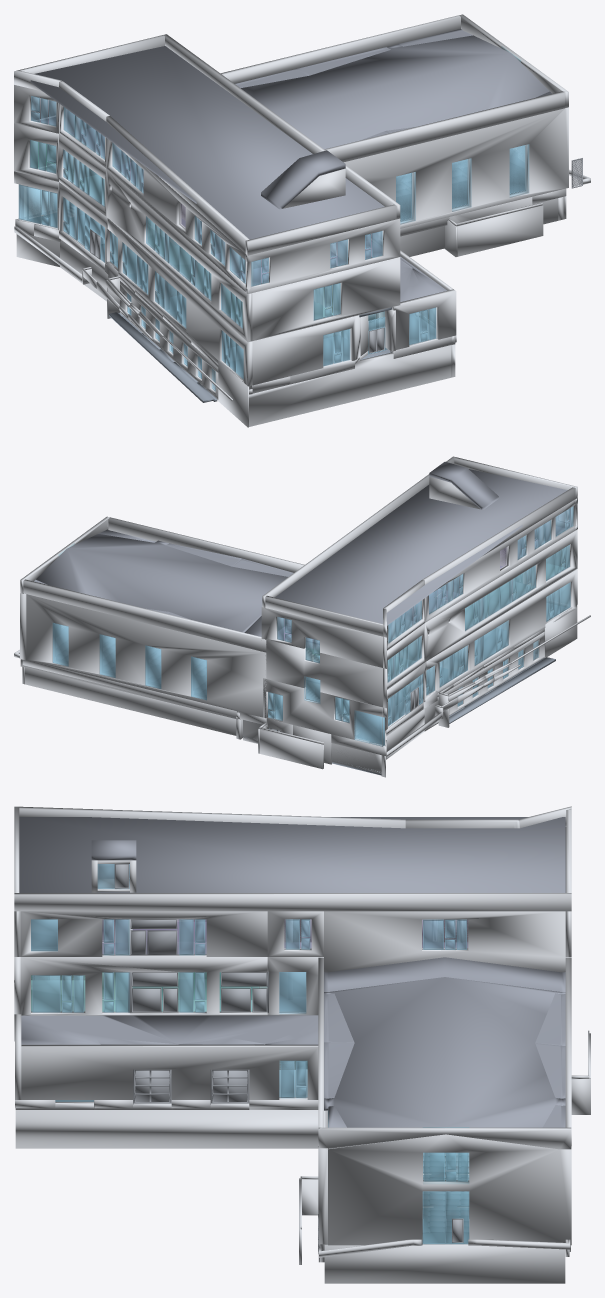
File: campus_twin.glb
The picture shows the model from 3 angles, top to bottom: view 1: azimuth 30°, elevation 25°; view 2: azimuth 150°, elevation 25°; view 3: azimuth 270°, elevation 25°; orthographic projection. The views are drawn at different scales.
Parts seen in each view (by area): view 1: arch_roof_storey_15ZSjFyOz3g9926Y5YSybv, arch_wall_storey_0XZfgApoH76vdPViCcsT6m, arch_wall_storey_1mnZnZ29v9QRze4pjg0g3S, arch_wall_storey_0IEk6ObD54bwMLfrOXff7W, arch_wall_storey_0SLmhMRV95B9NPlMAzXhZv, arch_window_storey_0XZfgApoH76vdPViCcsT6m, arch_window_storey_0IEk6ObD54bwMLfrOXff7W, arch_window_storey_1mnZnZ29v9QRze4pjg0g3S, arch_roof_storey_0IEk6ObD54bwMLfrOXff7W, arch_slab_storey_0XZfgApoH76vdPViCcsT6m, arch_slab_storey_0IEk6ObD54bwMLfrOXff7W, arch_slab_storey_0SLmhMRV95B9NPlMAzXhZv (+5 smaller); view 2: arch_roof_storey_15ZSjFyOz3g9926Y5YSybv, arch_wall_storey_0XZfgApoH76vdPViCcsT6m, arch_wall_storey_1mnZnZ29v9QRze4pjg0g3S, arch_wall_storey_0IEk6ObD54bwMLfrOXff7W, arch_wall_storey_0SLmhMRV95B9NPlMAzXhZv, arch_window_storey_0XZfgApoH76vdPViCcsT6m, arch_window_storey_0IEk6ObD54bwMLfrOXff7W, arch_window_storey_1mnZnZ29v9QRze4pjg0g3S, arch_roof_storey_0IEk6ObD54bwMLfrOXff7W, arch_slab_storey_0IEk6ObD54bwMLfrOXff7W, arch_column_storey_0XZfgApoH76vdPViCcsT6m, arch_slab_storey_0SLmhMRV95B9NPlMAzXhZv (+3 smaller); view 3: arch_roof_storey_15ZSjFyOz3g9926Y5YSybv, arch_wall_storey_1mnZnZ29v9QRze4pjg0g3S, arch_wall_storey_0XZfgApoH76vdPViCcsT6m, arch_wall_storey_0SLmhMRV95B9NPlMAzXhZv, arch_wall_storey_0IEk6ObD54bwMLfrOXff7W, arch_roof_storey_0IEk6ObD54bwMLfrOXff7W, arch_window_storey_0IEk6ObD54bwMLfrOXff7W, arch_window_storey_1mnZnZ29v9QRze4pjg0g3S, arch_door_storey_0IEk6ObD54bwMLfrOXff7W, arch_slab_storey_0XZfgApoH76vdPViCcsT6m, space_3WAA5EqJ58HBqF0jqdihFg, arch_window_storey_0XZfgApoH76vdPViCcsT6m (+6 smaller).
Part boxes in pixels (left/top/right/bottom): arch_roof_storey_15ZSjFyOz3g9926Y5YSybv: left=30, top=35, right=549, bottom=239; arch_wall_storey_0XZfgApoH76vdPViCcsT6m: left=14, top=107, right=590, bottom=401; arch_wall_storey_1mnZnZ29v9QRze4pjg0g3S: left=14, top=34, right=564, bottom=293; arch_wall_storey_0IEk6ObD54bwMLfrOXff7W: left=14, top=14, right=568, bottom=342; arch_wall_storey_0SLmhMRV95B9NPlMAzXhZv: left=15, top=188, right=566, bottom=427; arch_window_storey_0XZfgApoH76vdPViCcsT6m: left=18, top=144, right=529, bottom=379; arch_window_storey_0IEk6ObD54bwMLfrOXff7W: left=30, top=140, right=340, bottom=328; arch_window_storey_1mnZnZ29v9QRze4pjg0g3S: left=31, top=96, right=382, bottom=286; arch_roof_storey_0IEk6ObD54bwMLfrOXff7W: left=235, top=29, right=551, bottom=301; arch_slab_storey_0XZfgApoH76vdPViCcsT6m: left=29, top=213, right=435, bottom=375; arch_slab_storey_0IEk6ObD54bwMLfrOXff7W: left=43, top=165, right=391, bottom=324; arch_slab_storey_0SLmhMRV95B9NPlMAzXhZv: left=109, top=295, right=217, bottom=402; arch_roof_storey_15ZSjFyOz3g9926Y5YSybv: left=36, top=461, right=567, bottom=636; arch_wall_storey_0XZfgApoH76vdPViCcsT6m: left=14, top=569, right=590, bottom=759; arch_wall_storey_1mnZnZ29v9QRze4pjg0g3S: left=108, top=456, right=577, bottom=668; arch_wall_storey_0IEk6ObD54bwMLfrOXff7W: left=20, top=516, right=577, bottom=708; arch_wall_storey_0SLmhMRV95B9NPlMAzXhZv: left=20, top=605, right=577, bottom=777; arch_window_storey_0XZfgApoH76vdPViCcsT6m: left=52, top=582, right=570, bottom=746; arch_window_storey_0IEk6ObD54bwMLfrOXff7W: left=304, top=544, right=569, bottom=703; arch_window_storey_1mnZnZ29v9QRze4pjg0g3S: left=277, top=506, right=573, bottom=643; arch_roof_storey_0IEk6ObD54bwMLfrOXff7W: left=34, top=530, right=293, bottom=619; arch_slab_storey_0IEk6ObD54bwMLfrOXff7W: left=388, top=563, right=563, bottom=679; arch_column_storey_0XZfgApoH76vdPViCcsT6m: left=339, top=507, right=572, bottom=721; arch_slab_storey_0SLmhMRV95B9NPlMAzXhZv: left=243, top=654, right=555, bottom=775; arch_roof_storey_15ZSjFyOz3g9926Y5YSybv: left=19, top=817, right=565, bottom=1127; arch_wall_storey_1mnZnZ29v9QRze4pjg0g3S: left=14, top=806, right=571, bottom=1145; arch_wall_storey_0XZfgApoH76vdPViCcsT6m: left=14, top=980, right=589, bottom=1262; arch_wall_storey_0SLmhMRV95B9NPlMAzXhZv: left=15, top=1033, right=590, bottom=1283; arch_wall_storey_0IEk6ObD54bwMLfrOXff7W: left=14, top=954, right=571, bottom=1149; arch_roof_storey_0IEk6ObD54bwMLfrOXff7W: left=21, top=993, right=565, bottom=1127; arch_window_storey_0IEk6ObD54bwMLfrOXff7W: left=32, top=972, right=467, bottom=1181; arch_window_storey_1mnZnZ29v9QRze4pjg0g3S: left=31, top=919, right=466, bottom=955; arch_door_storey_0IEk6ObD54bwMLfrOXff7W: left=31, top=972, right=267, bottom=1012; arch_slab_storey_0XZfgApoH76vdPViCcsT6m: left=55, top=1069, right=469, bottom=1242; space_3WAA5EqJ58HBqF0jqdihFg: left=423, top=1127, right=468, bottom=1243; arch_window_storey_0XZfgApoH76vdPViCcsT6m: left=280, top=1060, right=469, bottom=1244.
Bounding box in the file's own units: 51.8 × 22.64 × 44.58.
